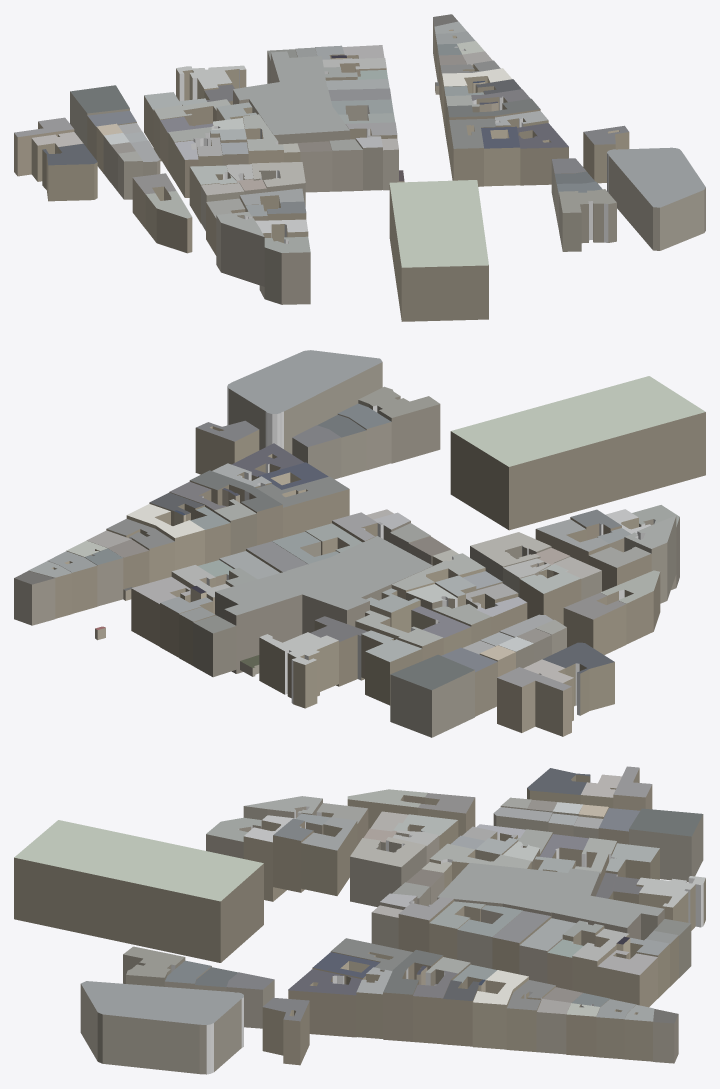
3 renders of one model, top to bottom at view 1: azimuth 30°, elevation 25°; view 2: azimuth 150°, elevation 25°; view 3: azimuth 270°, elevation 25°, orthographic. The views are drawn at different scales.
Parts seen in each view (by area): view 1: tuile; view 2: tuile; view 3: tuile.
Boxes of the visible parts, x1,y1,x2,y2 form: tuile: [14, 14, 705, 321]; tuile: [14, 350, 705, 737]; tuile: [14, 766, 705, 1074].
Bounding box in the file's own units: 285 × 43.78 × 312.
